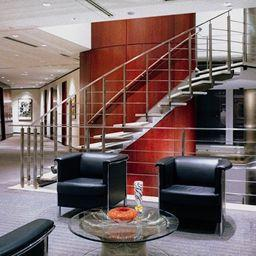Escaleras: (37, 14, 250, 150)
